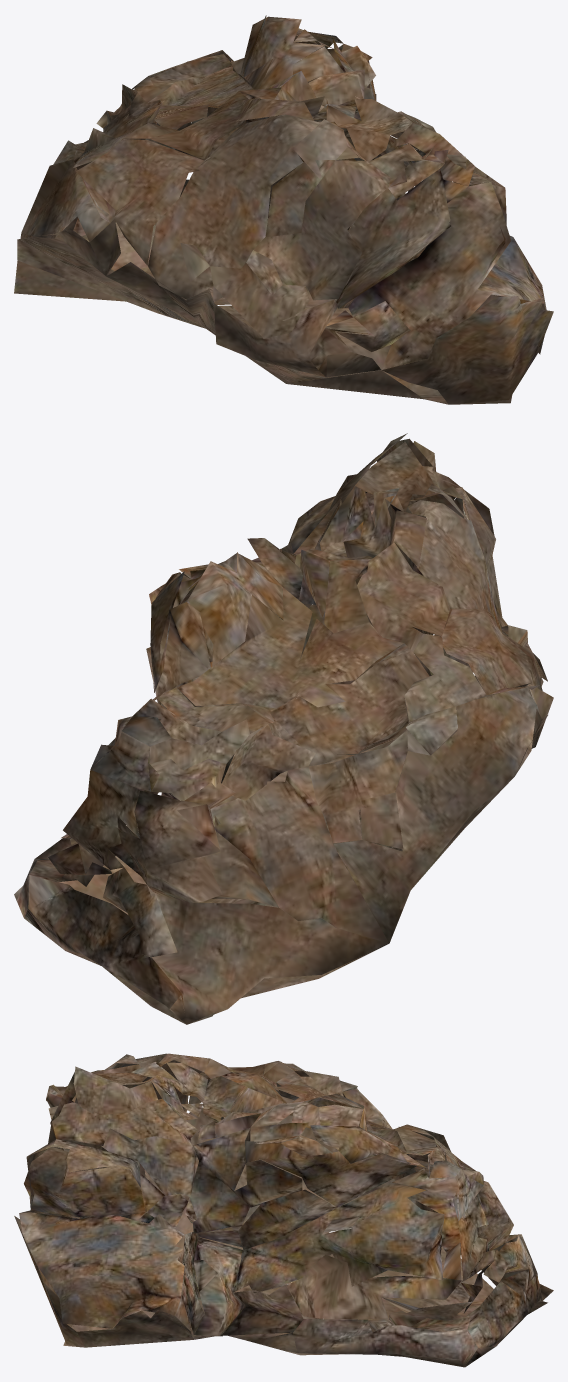
The model's file is boulder-medium.glb.
3 views of the same model, one above another, from view 1: azimuth 30°, elevation 25°; view 2: azimuth 150°, elevation 25°; view 3: azimuth 270°, elevation 25° (orthographic). The views are drawn at different scales.
Parts seen in each view (by area): view 1: boulder_01 baked; view 2: boulder_01 baked; view 3: boulder_01 baked.
Boxes of the visible parts, <box> form: boulder_01 baked: <box>14,15,553,404</box>; boulder_01 baked: <box>14,433,553,1024</box>; boulder_01 baked: <box>14,1053,553,1367</box>.
Size of the model in its own units: 1.27 by 0.9988 by 1.84.
Materials: 1 (1 with a texture image).
